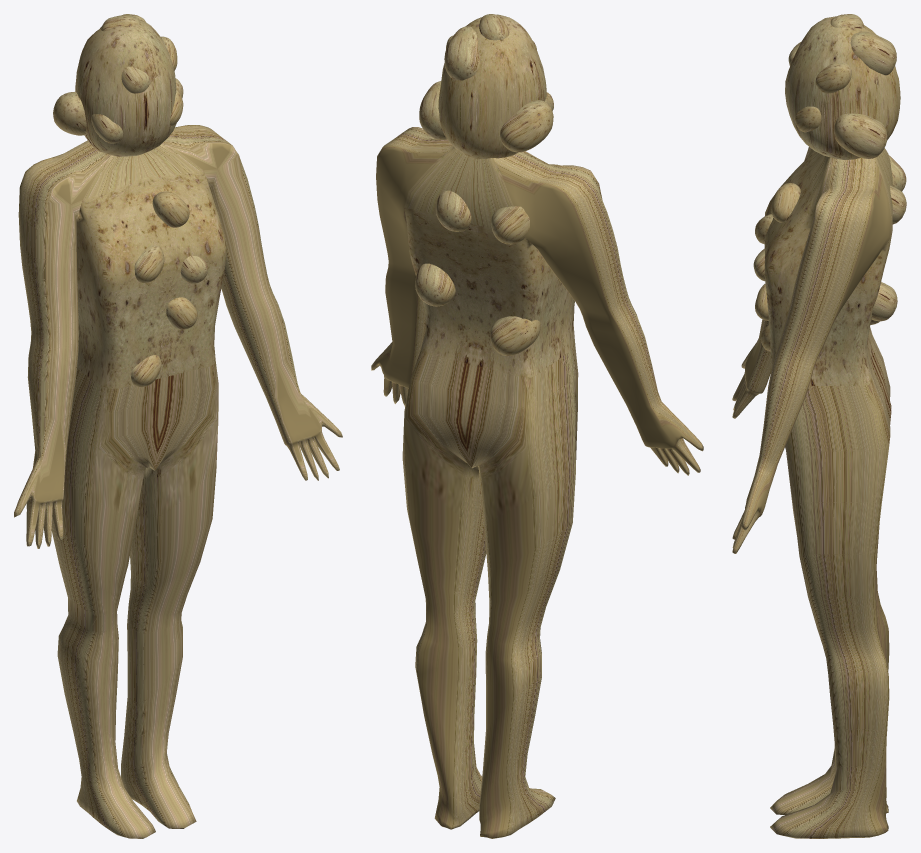
The model's file is SM_PotatoZombie.fbx.
3 views of the same model, side by side, from view 1: azimuth 30°, elevation 25°; view 2: azimuth 150°, elevation 25°; view 3: azimuth 270°, elevation 25° (orthographic).
Visible parts, largest first — view 1: SM_ZombiePotato; view 2: SM_ZombiePotato; view 3: SM_ZombiePotato.
Boxes of the visible parts, bbox=[...] form: SM_ZombiePotato: bbox=[14, 14, 342, 838]; SM_ZombiePotato: bbox=[371, 14, 703, 838]; SM_ZombiePotato: bbox=[732, 14, 906, 838].
Bounding box in the file's own units: 95.04 × 220 × 43.17.
